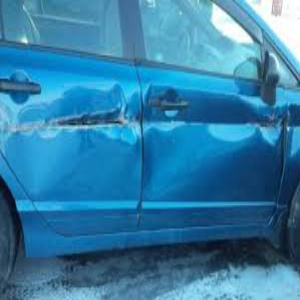door: (13, 98, 285, 160)
